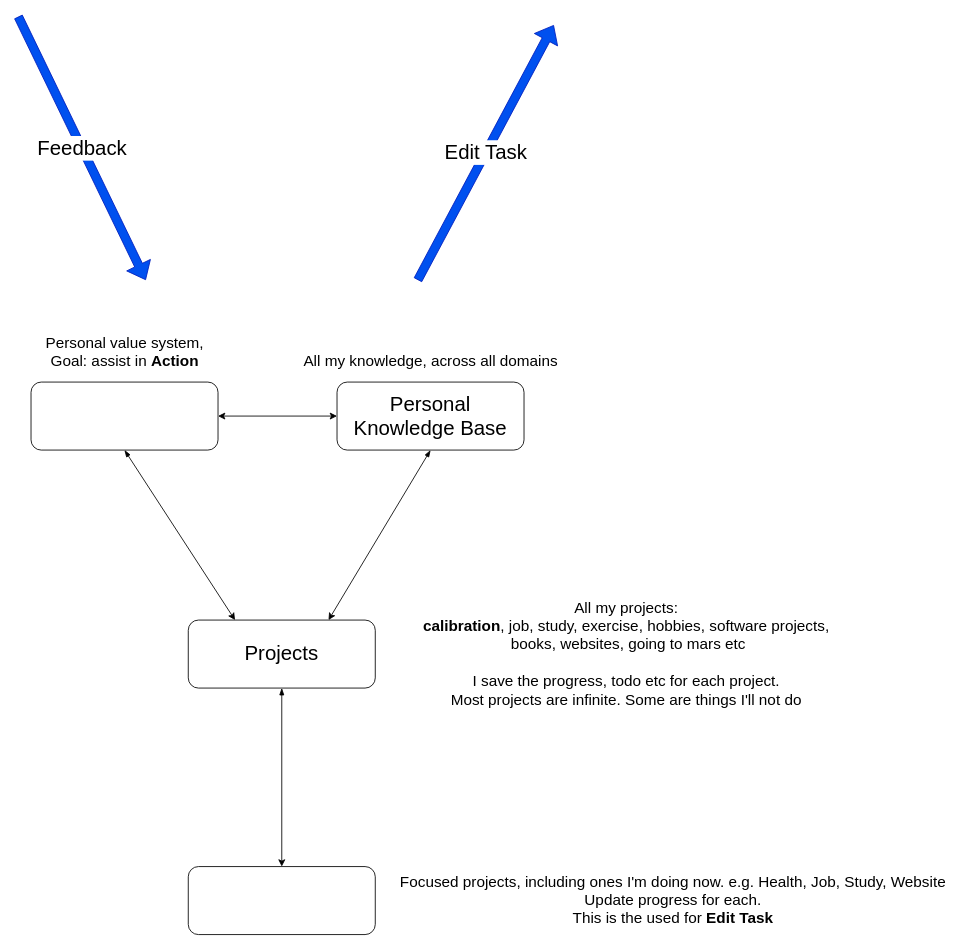
Image size: 968x949. Some labels were removed from this diagram. The centre of each missing label's shape, as x and y in pixels:
"Active Projects" goes at [281,900].
"Personal Value System" goes at [124,415].
